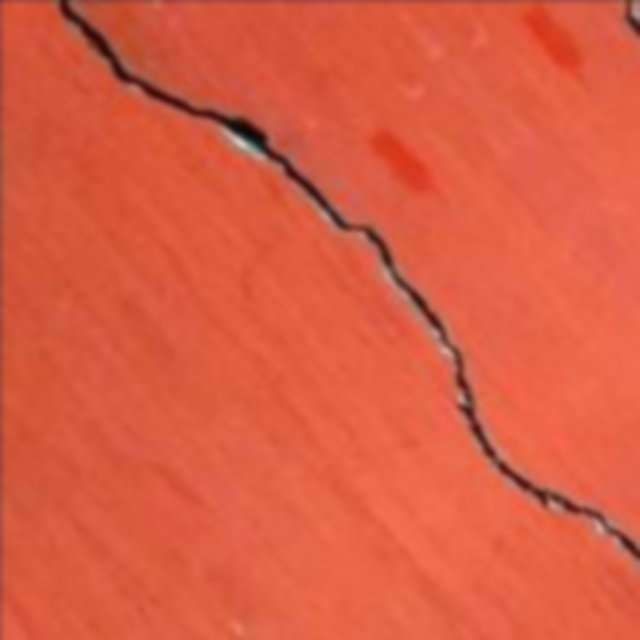SurfaceCrack: (22, 0, 640, 588)
